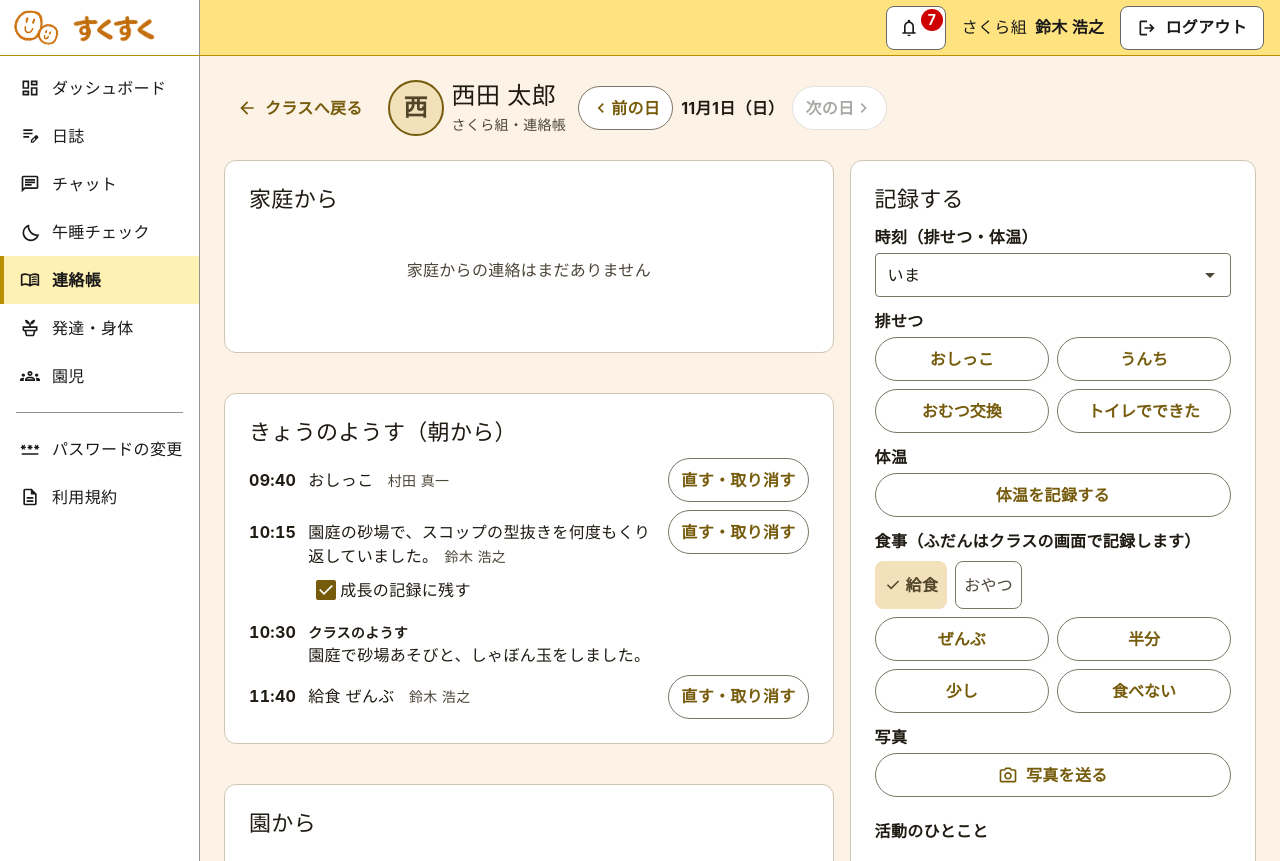
職員の体温の入力欄の近くの固定の文（直-12・25） › 連絡帳（園児）画面：「体温を記録する」で開く体温の一覧に出す
Click the button "体温を記録する" at [1053, 495], box left=875, top=473, right=1231, bottom=517
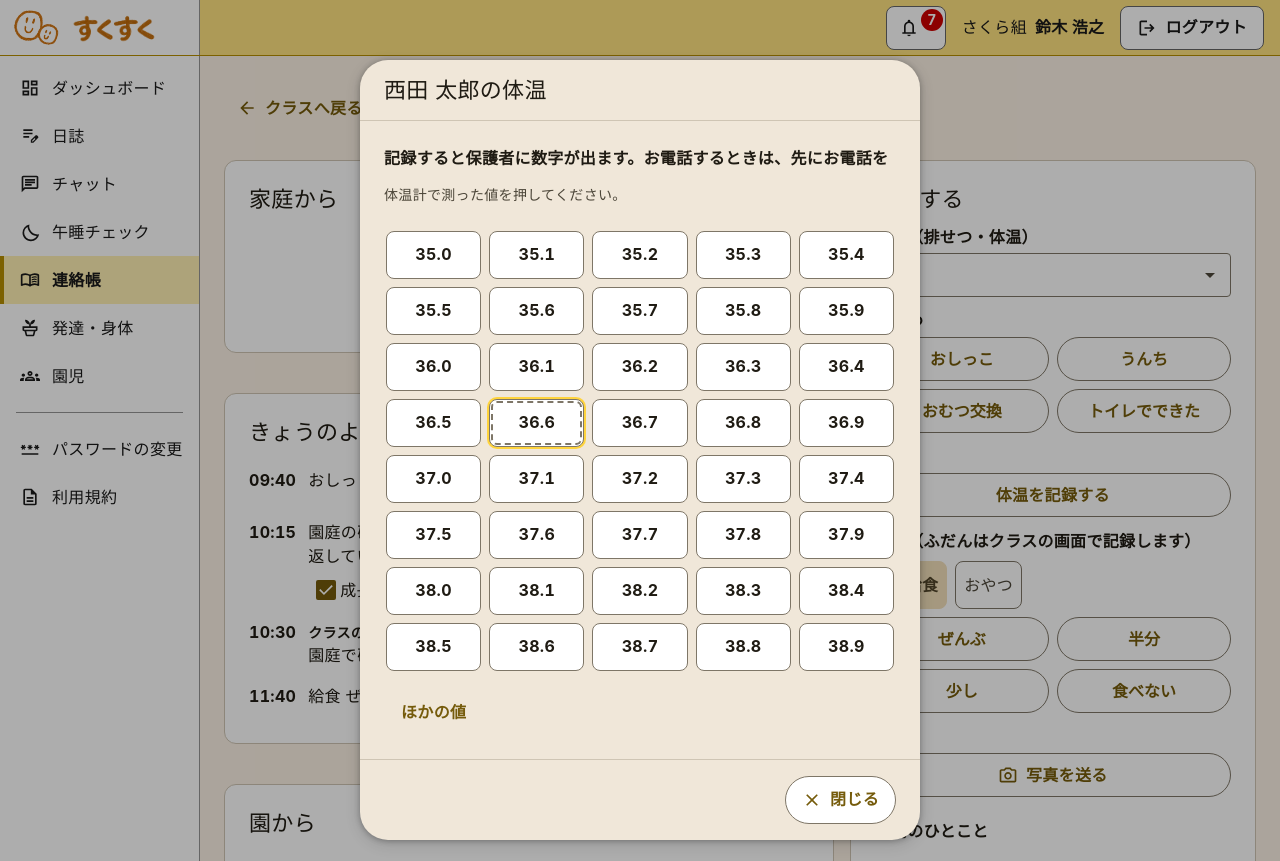
expect the text "記録すると保護者に数字が出ます。お電話するときは、先にお電話を" is shown: met, box left=384, top=145, right=896, bottom=173
